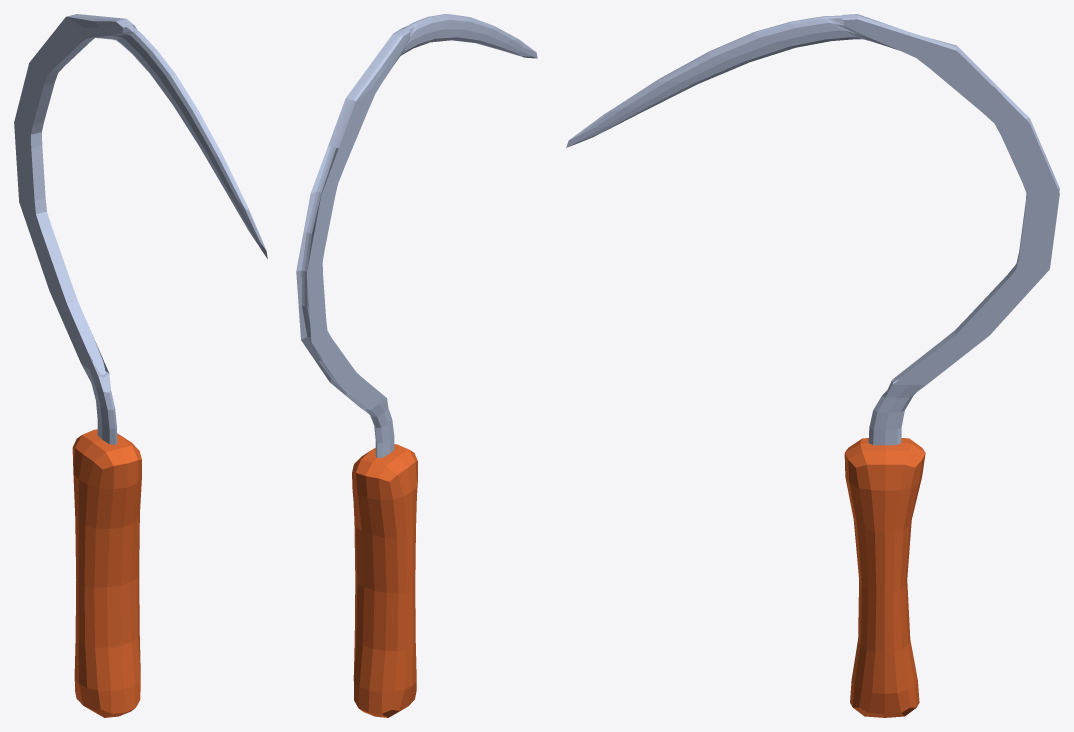
File: sickle.fbx
3 views of the same model, side by side, from view 1: azimuth 30°, elevation 25°; view 2: azimuth 150°, elevation 25°; view 3: azimuth 270°, elevation 25° (orthographic). The views are drawn at different scales.
Visible parts, largest first — view 1: Cube; view 2: Cube; view 3: Cube.
Boxes of the visible parts, box(x1,y1,x2,y2) form: Cube: box(14, 14, 267, 717); Cube: box(296, 14, 537, 717); Cube: box(566, 14, 1059, 717).
Bounding box in the file's own units: 21.23 × 244 × 157.
